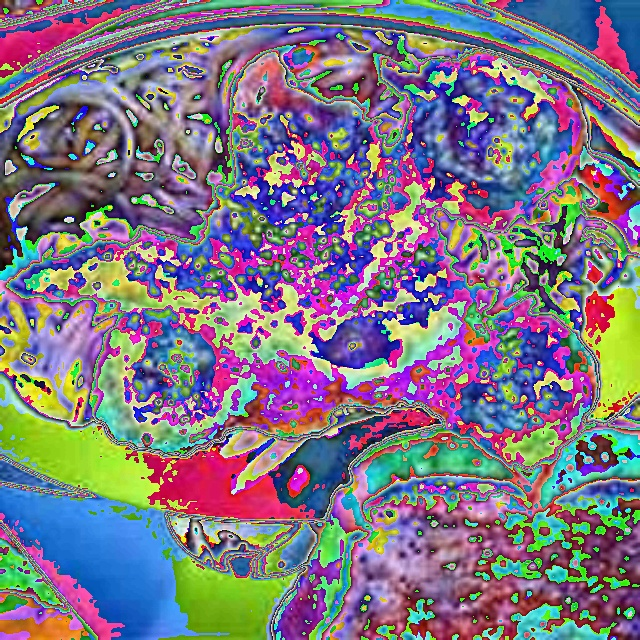background: (0, 28, 640, 639)
